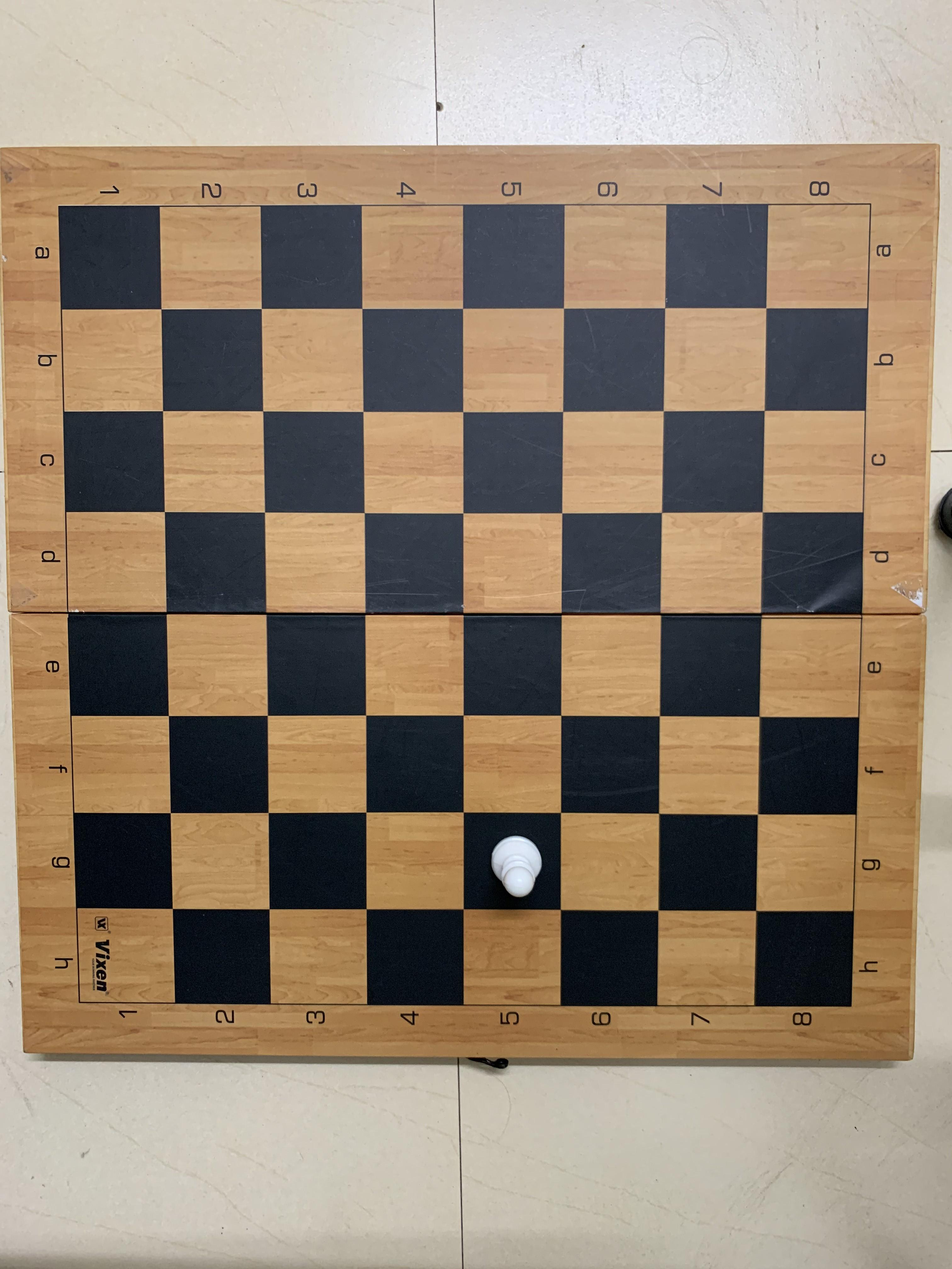white_pawn: (463, 815, 558, 911)
